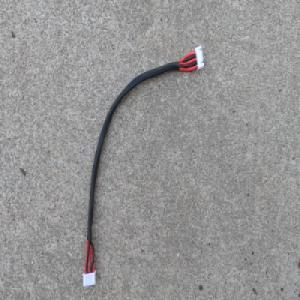Wire: (80, 42, 206, 289)
